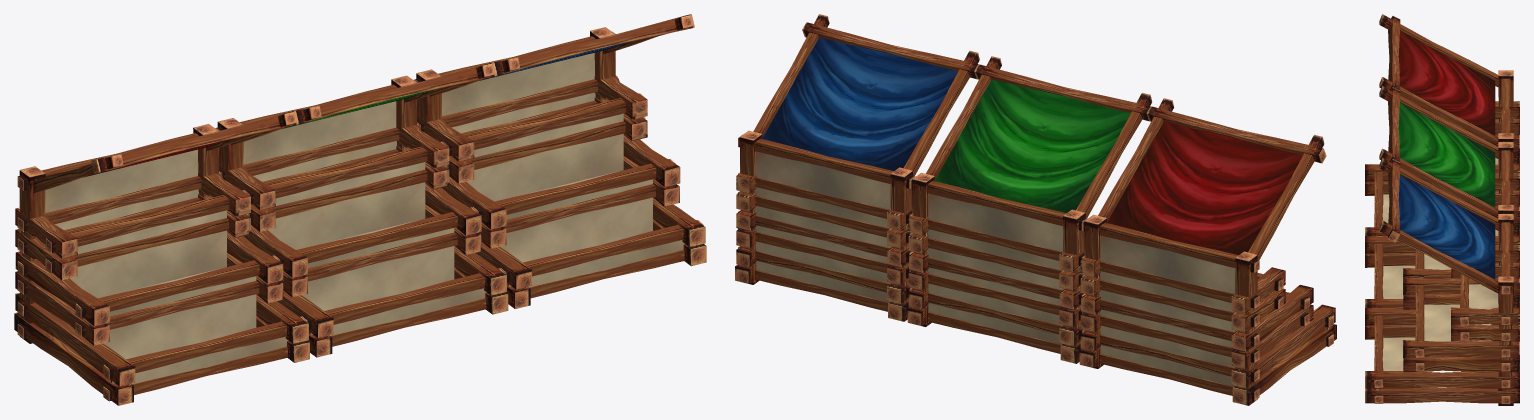
File: stands.obj
The picture shows the model from 3 angles, left to right: view 1: azimuth 30°, elevation 25°; view 2: azimuth 150°, elevation 25°; view 3: azimuth 270°, elevation 25°; orthographic projection. The views are drawn at different scales.
Parts seen in each view (by area): view 1: standRed, standBlue, standGreen; view 2: standRed, standBlue, standGreen; view 3: standBlue, standGreen, standRed.
Boxes of the visible parts, x1,y1,x2,y2 form: standRed: [14, 111, 309, 405]; standBlue: [414, 14, 706, 308]; standGreen: [216, 62, 508, 357]; standRed: [1079, 98, 1336, 405]; standBlue: [735, 14, 979, 321]; standGreen: [907, 56, 1152, 363]; standBlue: [1365, 158, 1519, 405]; standGreen: [1365, 86, 1519, 308]; standRed: [1365, 14, 1519, 236].
Size of the model in its own units: 24.09 by 9.44 by 7.31.
